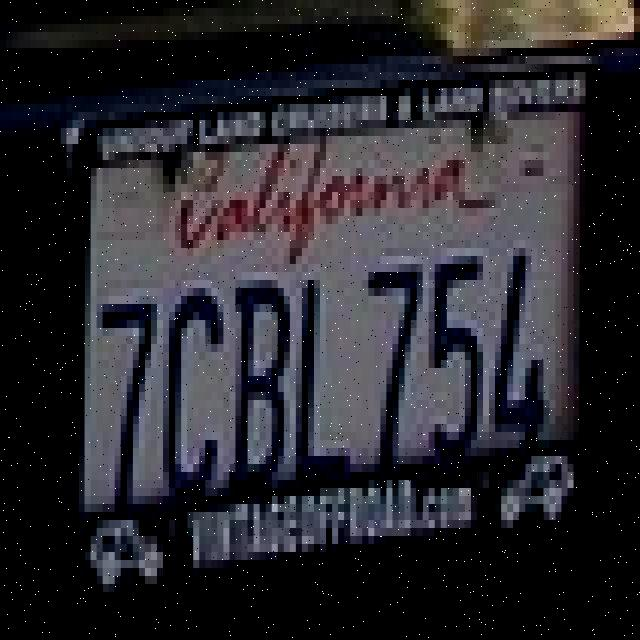licenseplate: (41, 39, 624, 586)
